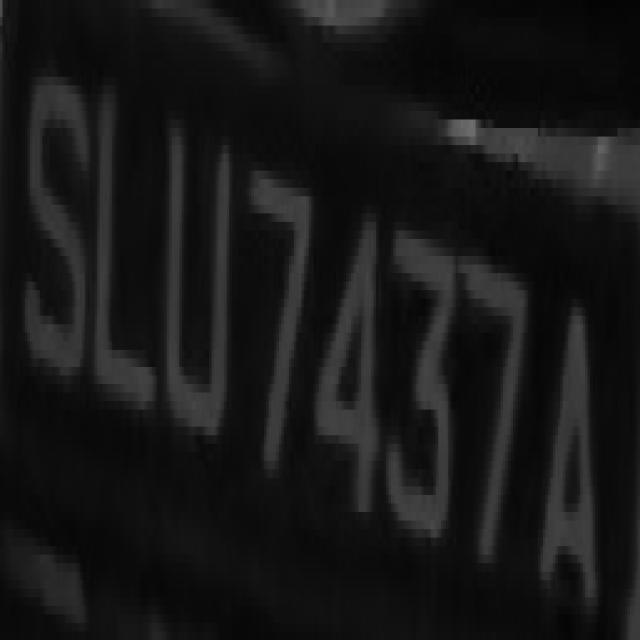3: (391, 188, 458, 563)
4: (319, 145, 391, 538)
7: (456, 188, 535, 580), (247, 111, 316, 512)
A: (543, 273, 612, 632)
L: (90, 34, 157, 469)
S: (20, 9, 87, 401)
U: (159, 85, 239, 461)
